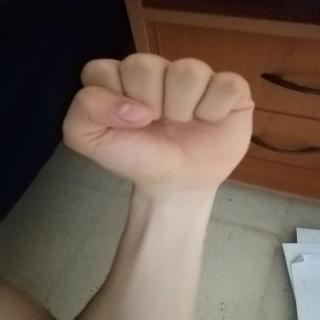SAD: (46, 44, 270, 199)
